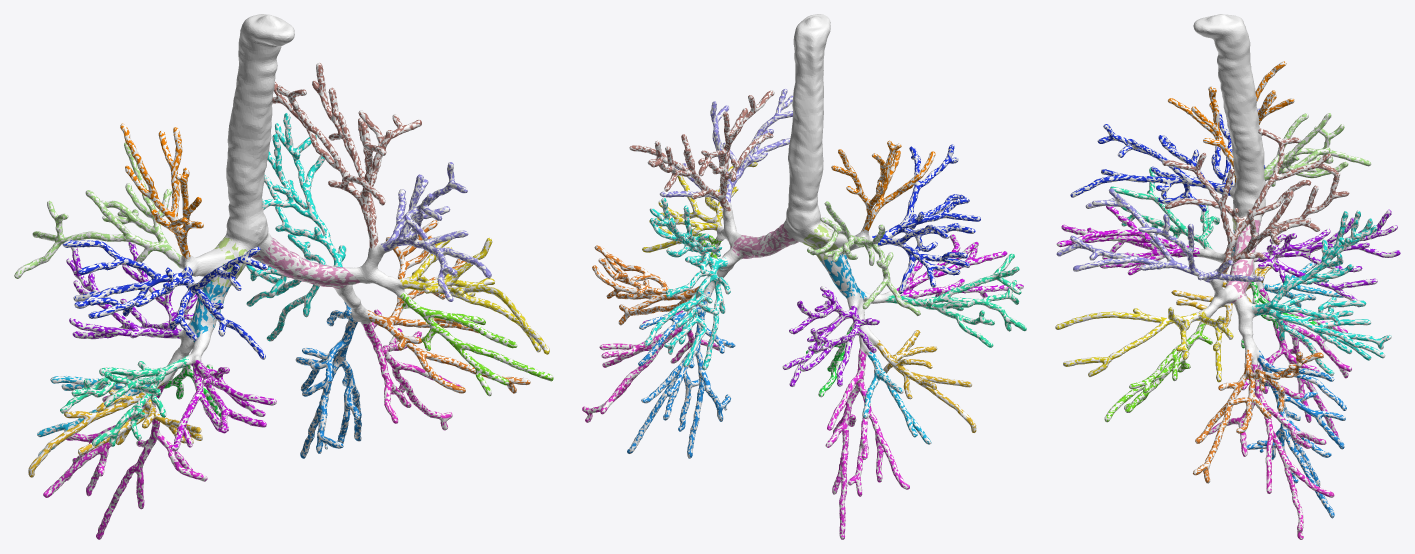
The model's file is airway_segments.glb.
3 views of the same model, side by side, from view 1: azimuth 30°, elevation 25°; view 2: azimuth 150°, elevation 25°; view 3: azimuth 270°, elevation 25° (orthographic). The views are drawn at different scales.
Visible parts, largest first — view 1: Complete_airway, RUL Anterior Segment (RB3), LUL Apicalposterior Segment (LB1+2), LLL Superior Segment (LB6).001, LLL Posterior Basal Segment (LB10), LUL Anterior Segment (LB3), RUL Posterior Segment (RB2), RML Lateral Segment (RB4), RLL Posterior Basal Segment (RB10), LLL Anterior Mediasl Basal Segment (LB7+8), RLL Superior Segment (RB6), RUL Apical Segment (RB1) (+8 smaller); view 2: Complete_airway, LLL Superior Segment (LB6).001, RUL Anterior Segment (RB3), LLL Posterior Basal Segment (LB10), LUL Apicalposterior Segment (LB1+2), RLL Posterior Basal Segment (RB10), RML Lateral Segment (RB4), RLL Superior Segment (RB6), LLL Anterior Mediasl Basal Segment (LB7+8), RUL Posterior Segment (RB2), RUL Apical Segment (RB1), LUL Anterior Segment (LB3) (+7 smaller); view 3: Complete_airway, LLL Superior Segment (LB6).001, LUL Apicalposterior Segment (LB1+2), LUL Anterior Segment (LB3), RUL Anterior Segment (RB3), LLL Posterior Basal Segment (LB10), RLL Superior Segment (RB6), LLL Anterior Mediasl Basal Segment (LB7+8), Lingula Superior Segment (LB4), LLL Lateral Basal Segment (LB9), RML Medial Segment (RB5), RUL Posterior Segment (RB2) (+7 smaller).
Part boxes in pixels (box(x1,y1,x2,y2)): Complete_airway: box(15, 14, 553, 539); RUL Anterior Segment (RB3): box(63, 240, 268, 359); LUL Apicalposterior Segment (LB1+2): box(272, 63, 421, 248); LLL Superior Segment (LB6).001: box(246, 113, 345, 341); LLL Posterior Basal Segment (LB10): box(295, 302, 361, 458); LUL Anterior Segment (LB3): box(381, 162, 491, 301); RUL Posterior Segment (RB2): box(14, 142, 181, 278); RML Lateral Segment (RB4): box(60, 355, 188, 446); RLL Posterior Basal Segment (RB10): box(43, 383, 207, 539); LLL Anterior Mediasl Basal Segment (LB7+8): box(368, 220, 530, 393); RLL Superior Segment (RB6): box(66, 242, 197, 338); RUL Apical Segment (RB1): box(120, 123, 203, 258); Complete_airway: box(583, 14, 1026, 539); LLL Superior Segment (LB6).001: box(645, 198, 730, 369); RUL Anterior Segment (RB3): box(872, 144, 980, 293); LLL Posterior Basal Segment (LB10): box(627, 292, 735, 458); LUL Apicalposterior Segment (LB1+2): box(629, 90, 773, 211); RLL Posterior Basal Segment (RB10): box(825, 349, 909, 539); RML Lateral Segment (RB4): box(885, 253, 1026, 347); RLL Superior Segment (RB6): box(783, 287, 879, 386); LLL Anterior Mediasl Basal Segment (LB7+8): box(592, 245, 699, 325); RUL Posterior Segment (RB2): box(807, 201, 920, 315); RUL Apical Segment (RB1): box(831, 140, 935, 230); LUL Anterior Segment (LB3): box(660, 89, 793, 202); Complete_airway: box(1055, 14, 1400, 539); LLL Superior Segment (LB6).001: box(1252, 211, 1391, 374); LUL Apicalposterior Segment (LB1+2): box(1162, 128, 1349, 273); LUL Anterior Segment (LB3): box(1056, 188, 1263, 282); RUL Anterior Segment (RB3): box(1070, 108, 1265, 211); LLL Posterior Basal Segment (LB10): box(1246, 350, 1346, 518); RLL Superior Segment (RB6): box(1256, 209, 1400, 307); LLL Anterior Mediasl Basal Segment (LB7+8): box(1193, 349, 1323, 482); Lingula Superior Segment (LB4): box(1055, 307, 1233, 382); LLL Lateral Basal Segment (LB9): box(1209, 364, 1334, 539); RML Medial Segment (RB5): box(1057, 206, 1199, 274); RUL Posterior Segment (RB2): box(1264, 113, 1371, 186).
Size of the model in its own units: 0.2483 by 0.2806 by 0.1866.
